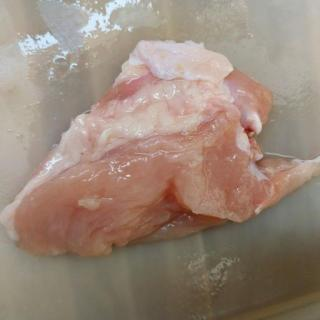Ayam: (1, 40, 320, 259)
